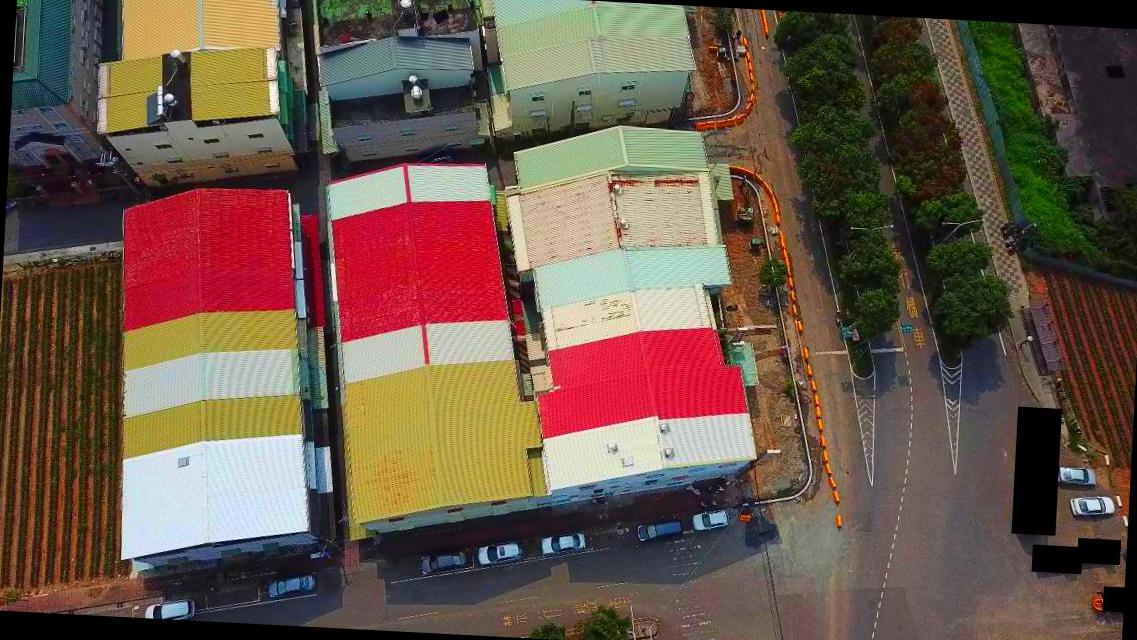vehicle: (266, 572, 316, 602), (417, 546, 466, 576), (144, 593, 195, 621), (475, 538, 524, 566), (1066, 492, 1114, 520), (540, 530, 586, 559), (634, 517, 682, 544), (690, 506, 730, 534), (1053, 467, 1095, 488)
